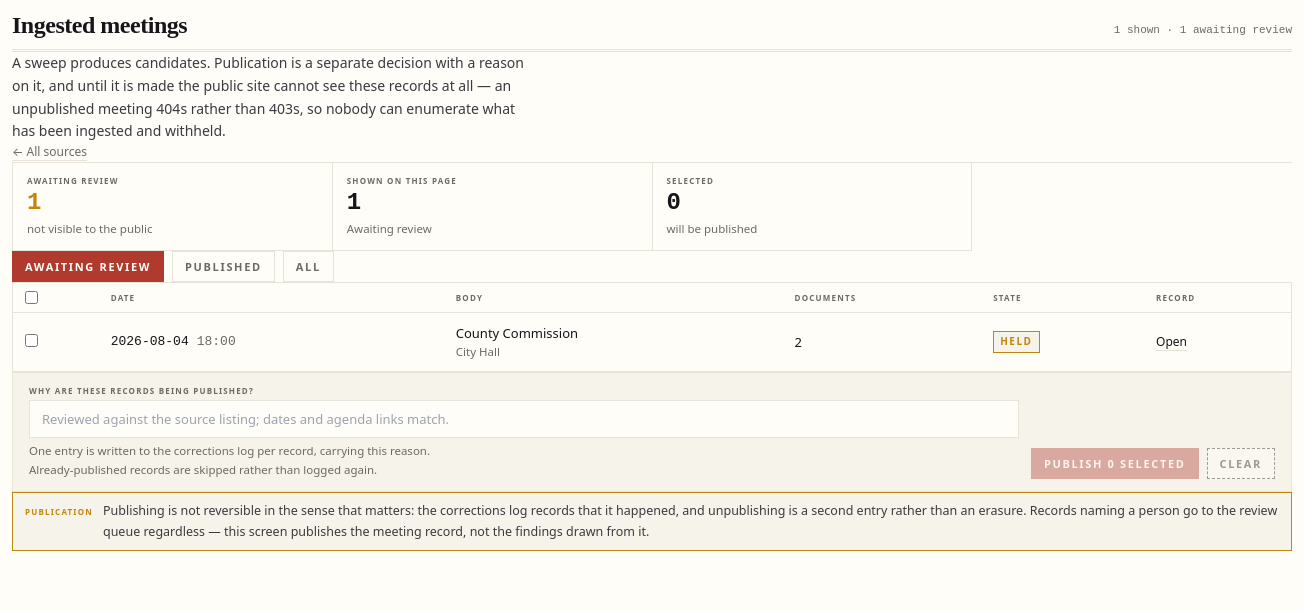
Test: the ingested-meetings screen › reports the outcomes that are not failures
The image size is (1304, 612).
Click the checkbox with test id "select-m1" at (32, 340), box [25, 334, 38, 347]
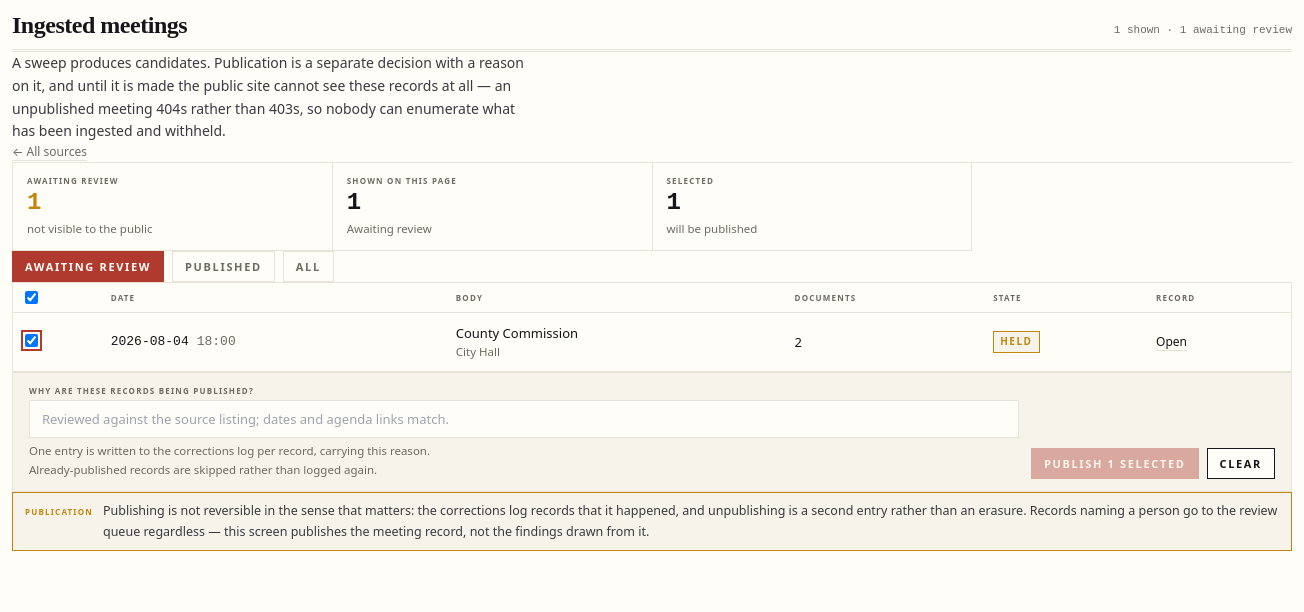
Type "Reviewed." into the field labelled "Why are these records being published?" at (524, 419), box [29, 400, 1019, 438]
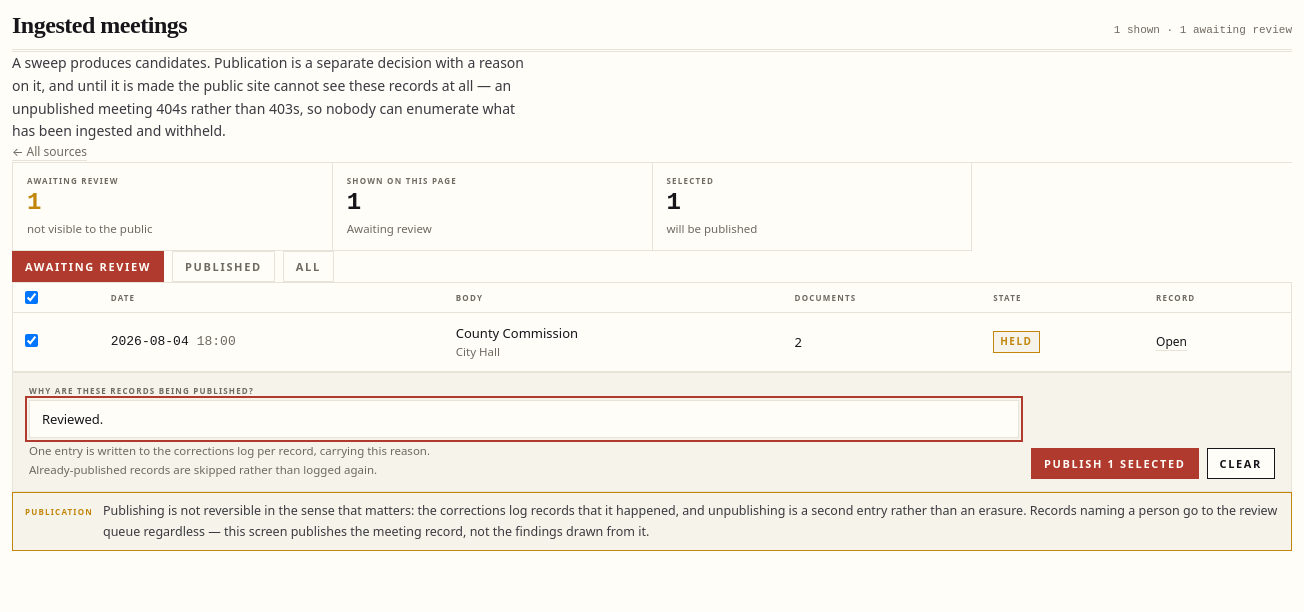
Click the button with test id "publish-selected" at (1115, 464), box [1031, 448, 1198, 479]
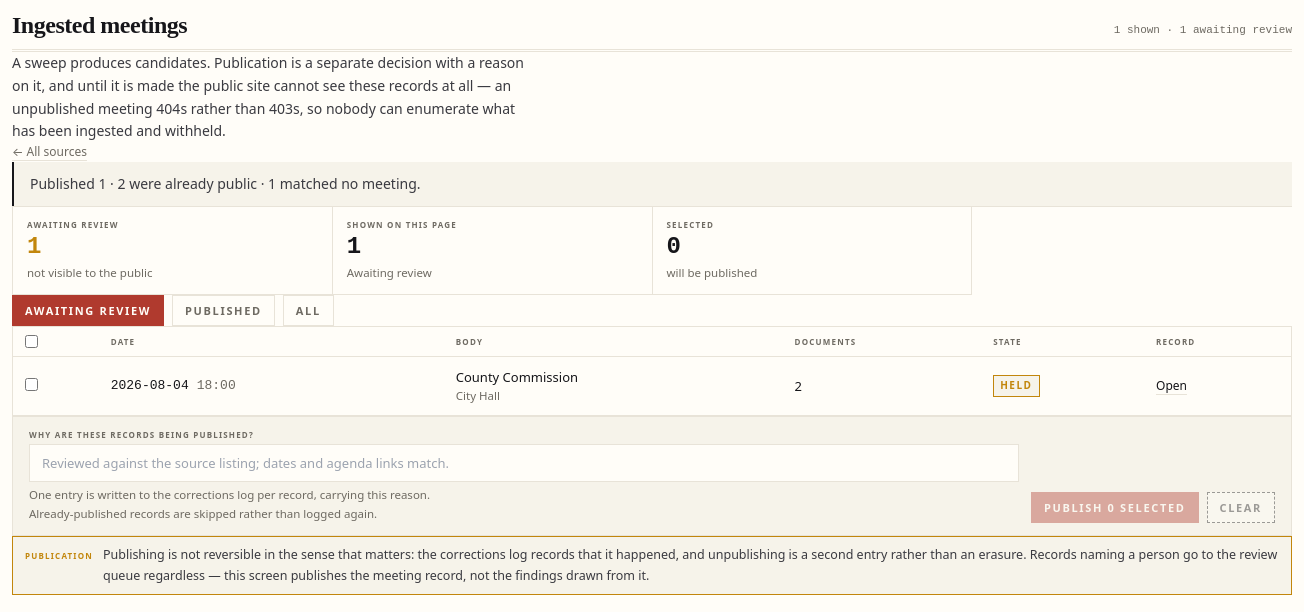
Result: the message shows "Published 1" at [30, 174, 420, 193]
Result: the message shows "2 were already public" at [30, 174, 420, 193]
Result: the message shows "1 matched no meeting" at [30, 174, 420, 193]
